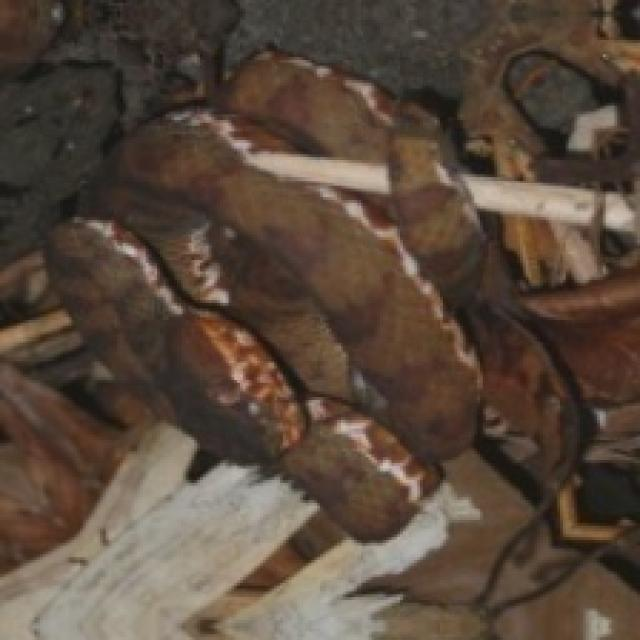philippine pitviper: (50, 51, 485, 539)
